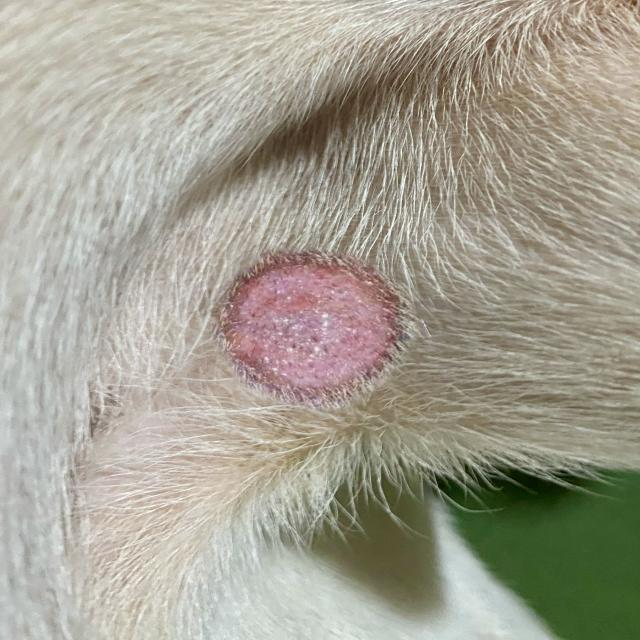ringworm: (207, 259, 420, 397)
